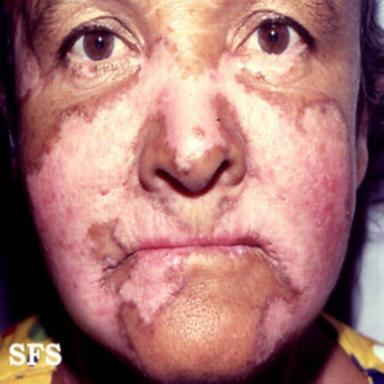Lupus-Erythematosus-Chronicus-Discoides: (29, 40, 355, 370)
